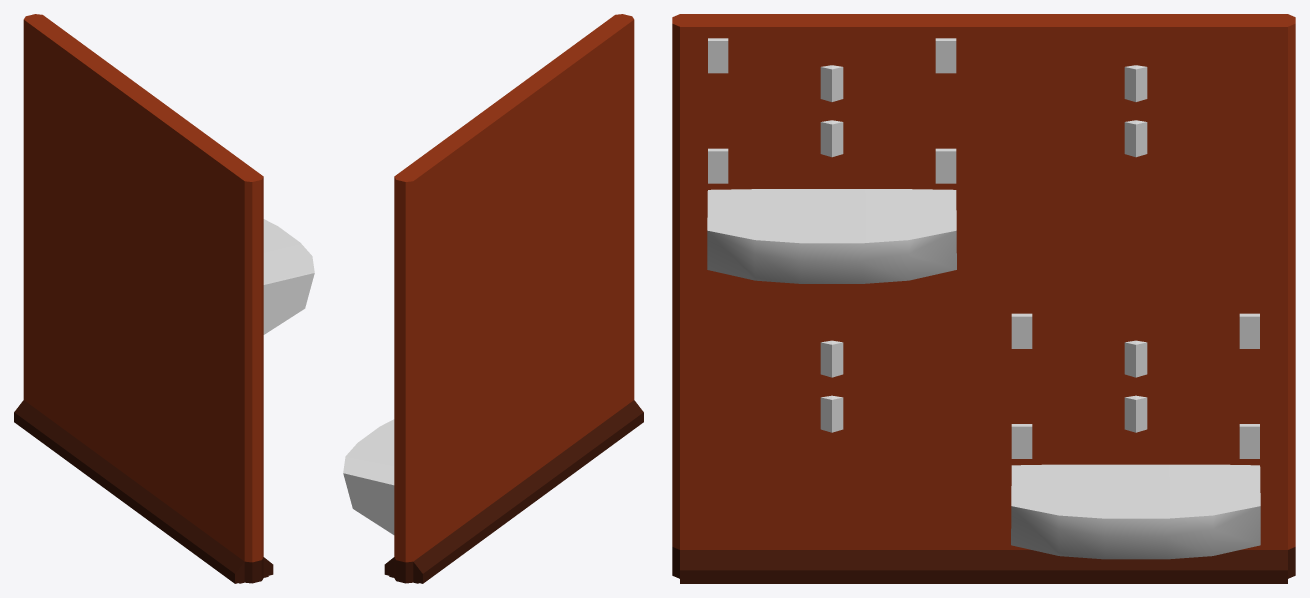
The model's file is Wall_2_0-LadderA.fbx.
3 views of the same model, side by side, from view 1: azimuth 30°, elevation 25°; view 2: azimuth 150°, elevation 25°; view 3: azimuth 270°, elevation 25° (orthographic). The views are drawn at different scales.
Parts seen in each view (by area): view 1: Wall/2_0-LadderA, Ladder.003; view 2: Wall/2_0-LadderA, Ladder.003; view 3: Wall/2_0-LadderA, Ladder.003.
Part boxes in pixels (x1,y1,x2,y2): Wall/2_0-LadderA: [14, 14, 273, 583]; Ladder.003: [263, 219, 314, 334]; Wall/2_0-LadderA: [384, 14, 643, 583]; Ladder.003: [343, 419, 394, 534]; Wall/2_0-LadderA: [672, 14, 1295, 583]; Ladder.003: [707, 38, 1260, 559].
Size of the model in its own units: 1.15 by 4.1 by 4.01.
